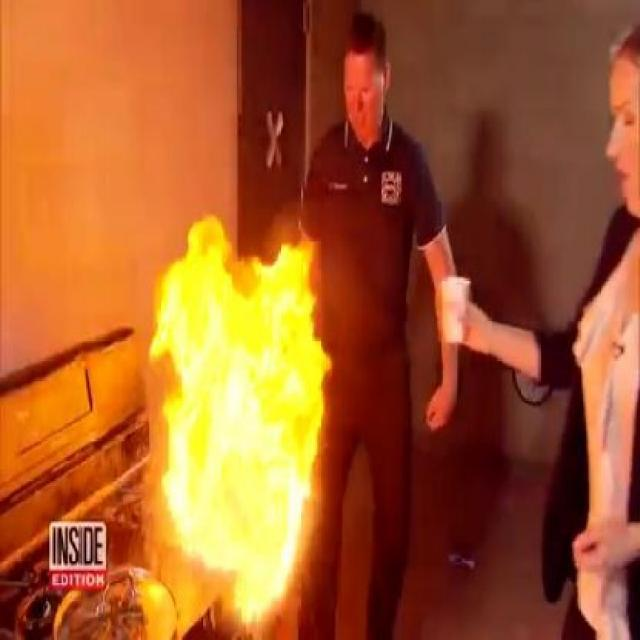fire: (162, 211, 322, 567)
